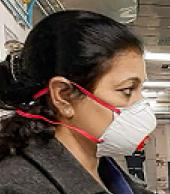OK: (99, 67, 152, 158)
